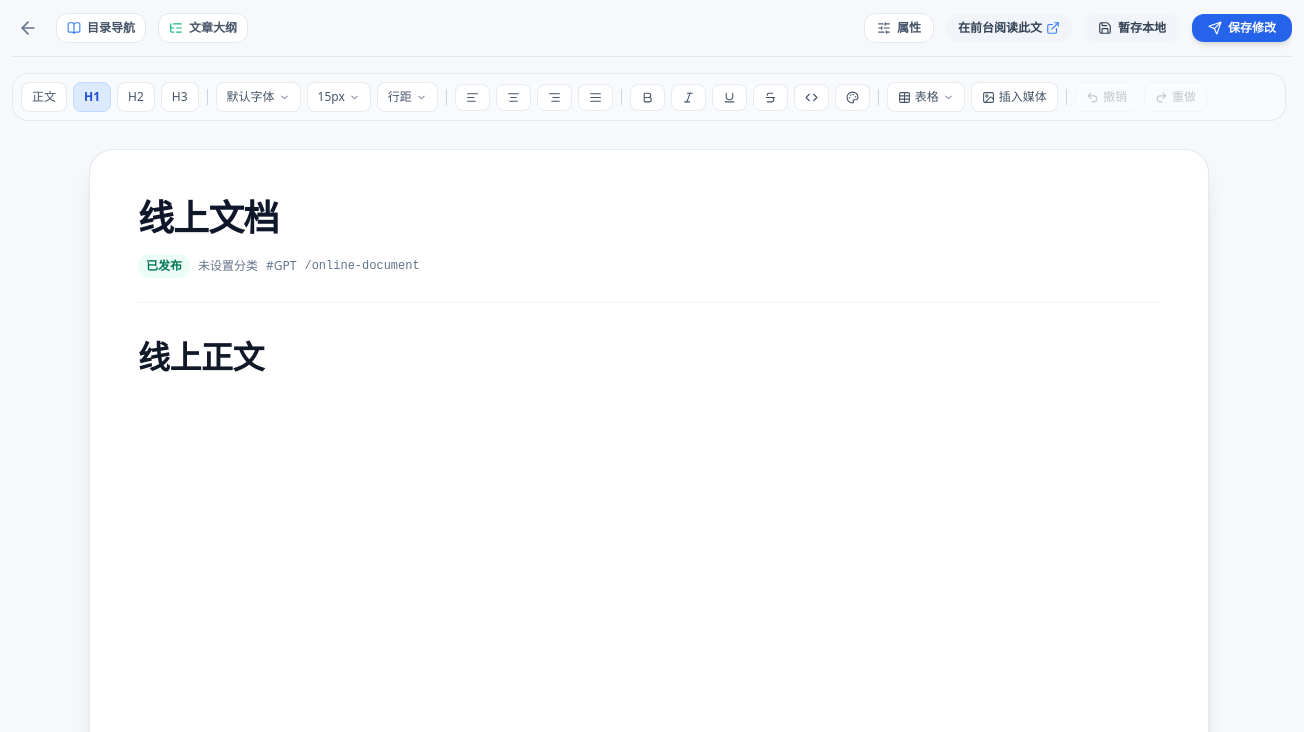
AdminDocumentEditor published draft behavior › does not create a local draft when nothing changed
Click the button "暂存本地" at [1132, 28], box [1084,14,1180,42]
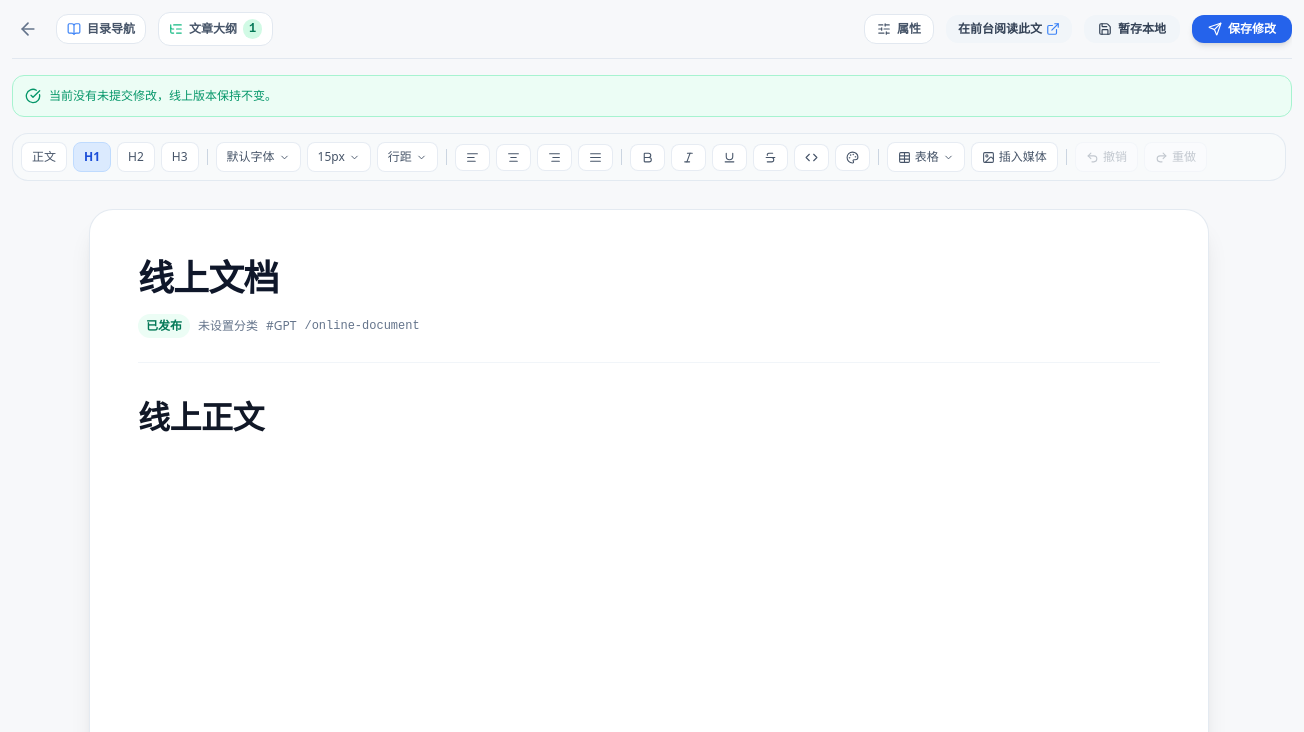
Expected: the text "当前没有未提交修改，线上版本保持不变。" is shown, [49,88,277,104]
